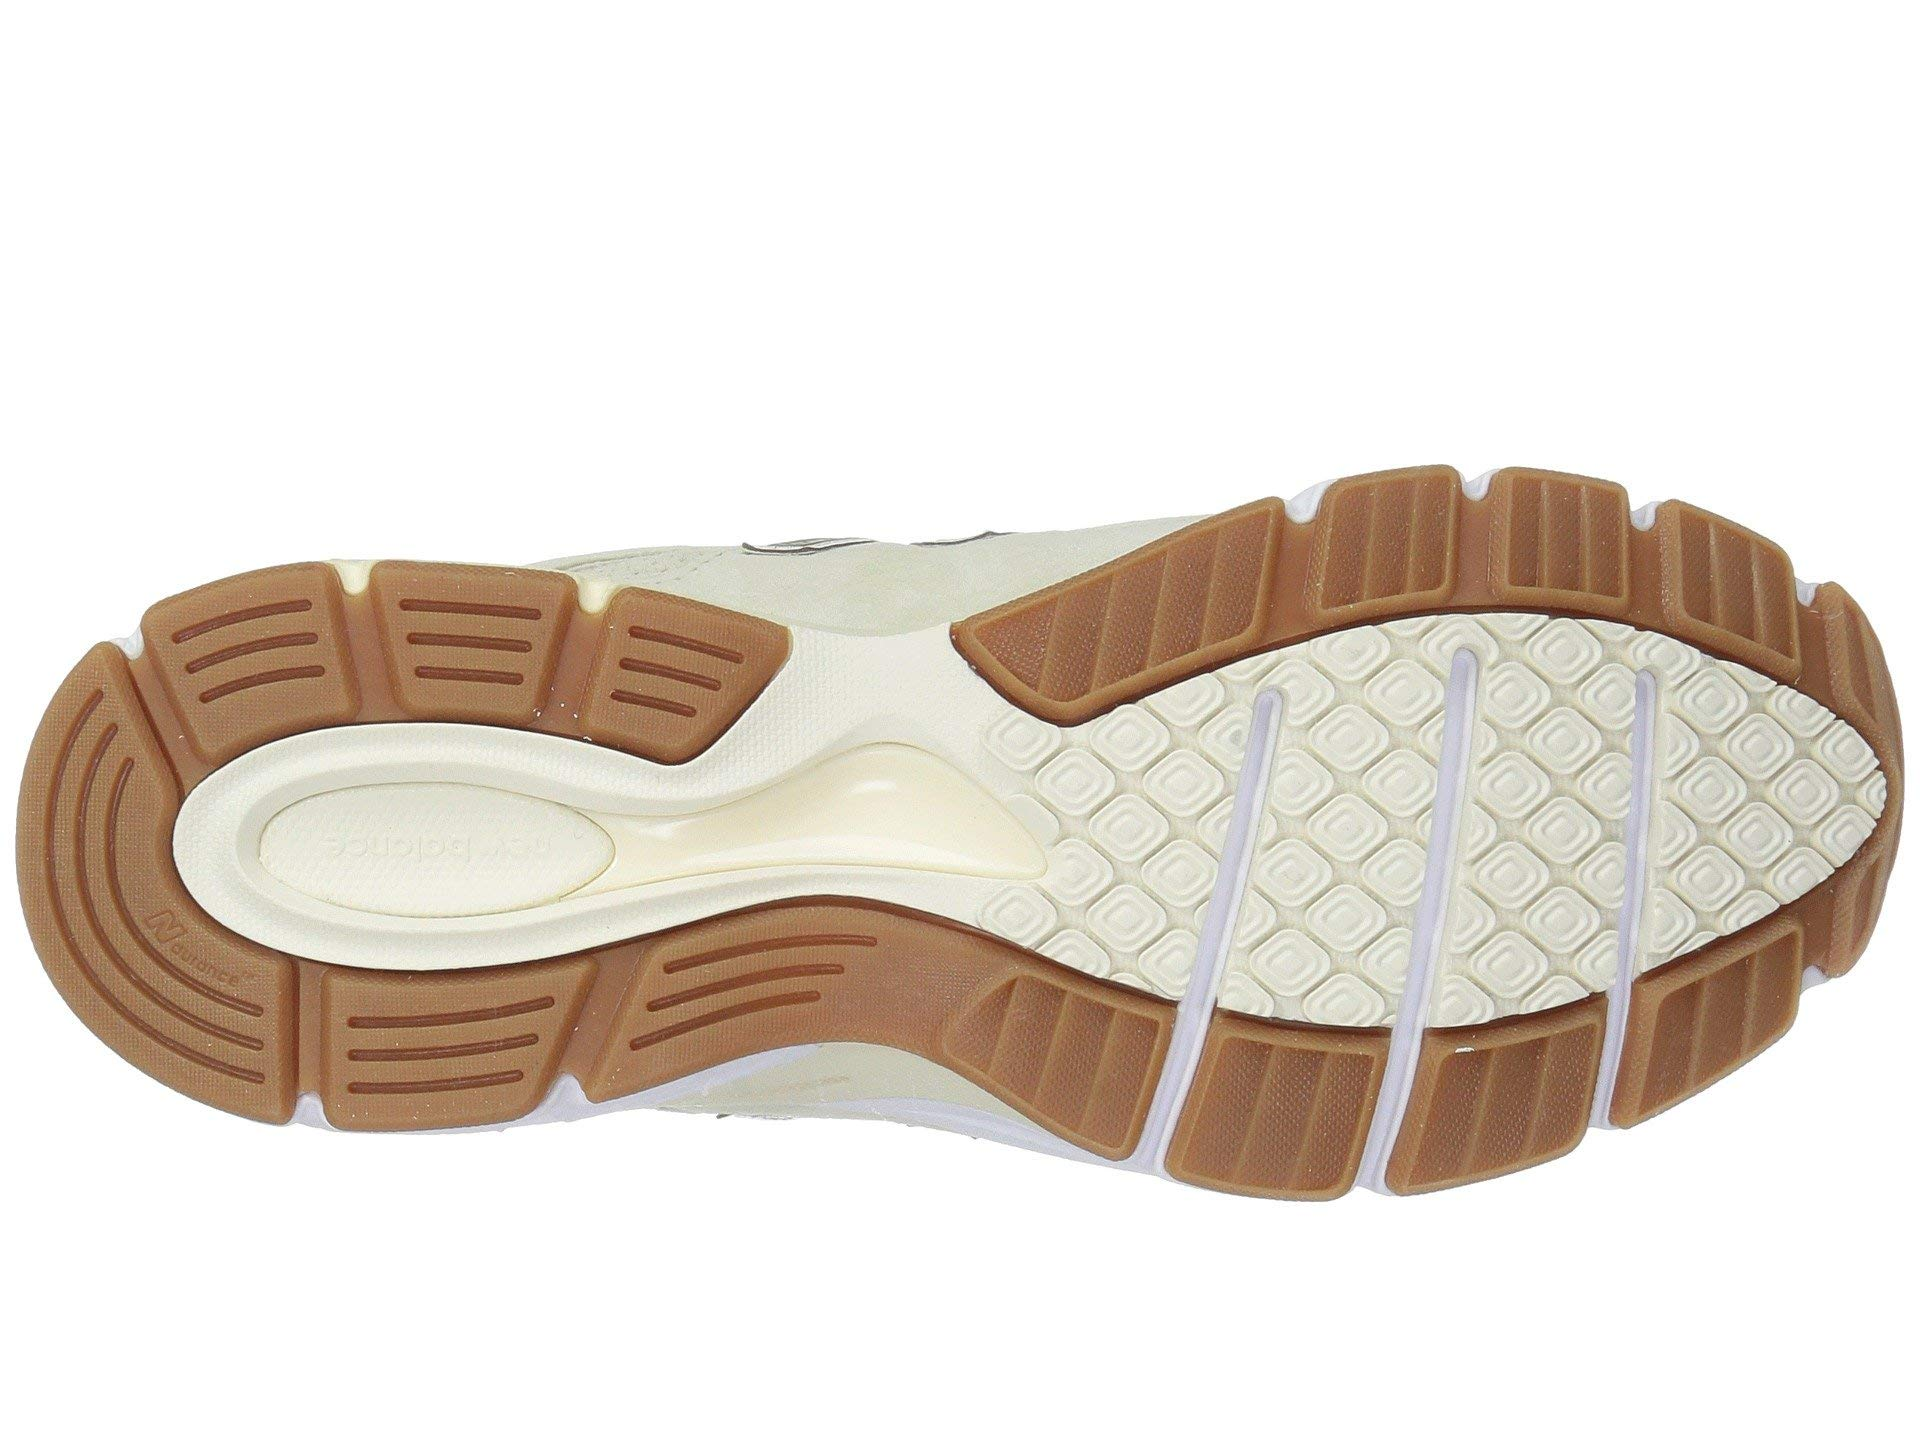circle: (237, 753, 632, 929)
quad: (1039, 681, 1763, 944), (156, 585, 779, 765), (289, 964, 618, 1134), (1001, 535, 1281, 728), (952, 976, 1194, 1165), (1618, 923, 1801, 1125), (1401, 1018, 1590, 1172), (1303, 464, 1482, 622), (1666, 502, 1805, 675), (1495, 461, 1628, 638)
text: (237, 753, 632, 929), (104, 861, 263, 1032)
triangle: (952, 976, 1194, 1165)
